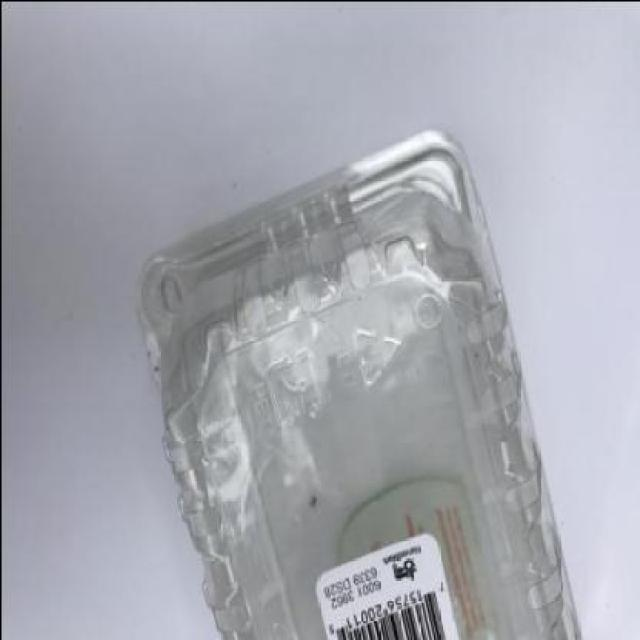PLASTIC: (137, 130, 583, 638)
